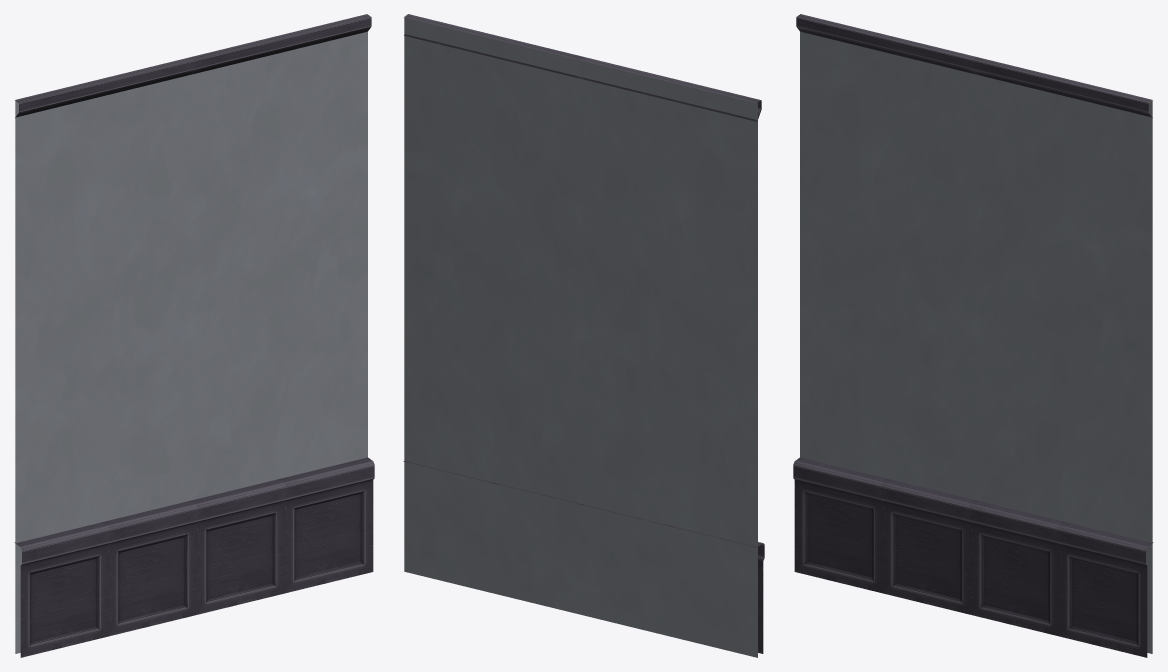
File: Ev_company_inner_moldingwall.fbx
3 views of the same model, side by side, from view 1: azimuth 30°, elevation 25°; view 2: azimuth 150°, elevation 25°; view 3: azimuth 330°, elevation 25° (orthographic).
Parts seen in each view (by area): view 1: Ev_company_inner_wall, Ev_company_inner_wall_molding; view 2: Ev_company_inner_wall, Ev_company_inner_wall_molding; view 3: Ev_company_inner_wall, Ev_company_inner_wall_molding.
Part boxes in pixels (<box>): Ev_company_inner_wall: <box>15,31,367,653</box>; Ev_company_inner_wall_molding: <box>14,14,374,657</box>; Ev_company_inner_wall: <box>404,17,757,657</box>; Ev_company_inner_wall_molding: <box>403,14,764,653</box>; Ev_company_inner_wall: <box>800,31,1152,653</box>; Ev_company_inner_wall_molding: <box>793,14,1153,657</box>.
Size of the model in its own units: 200 by 300 by 7.73.
